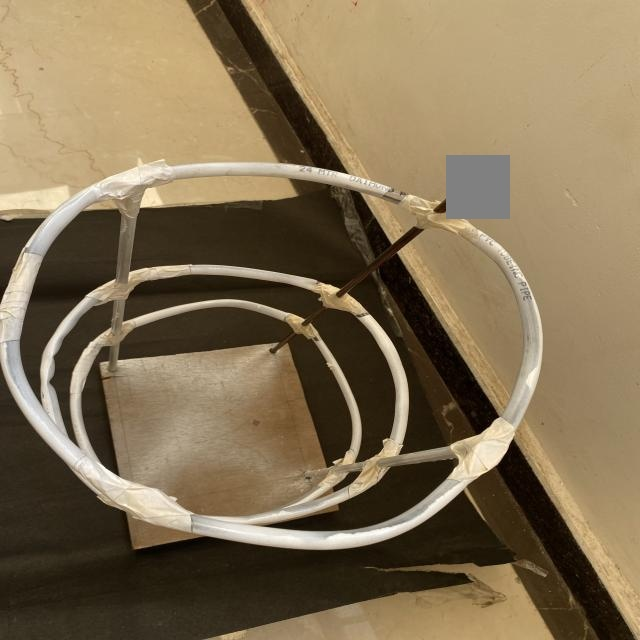silo: (7, 153, 545, 552)
